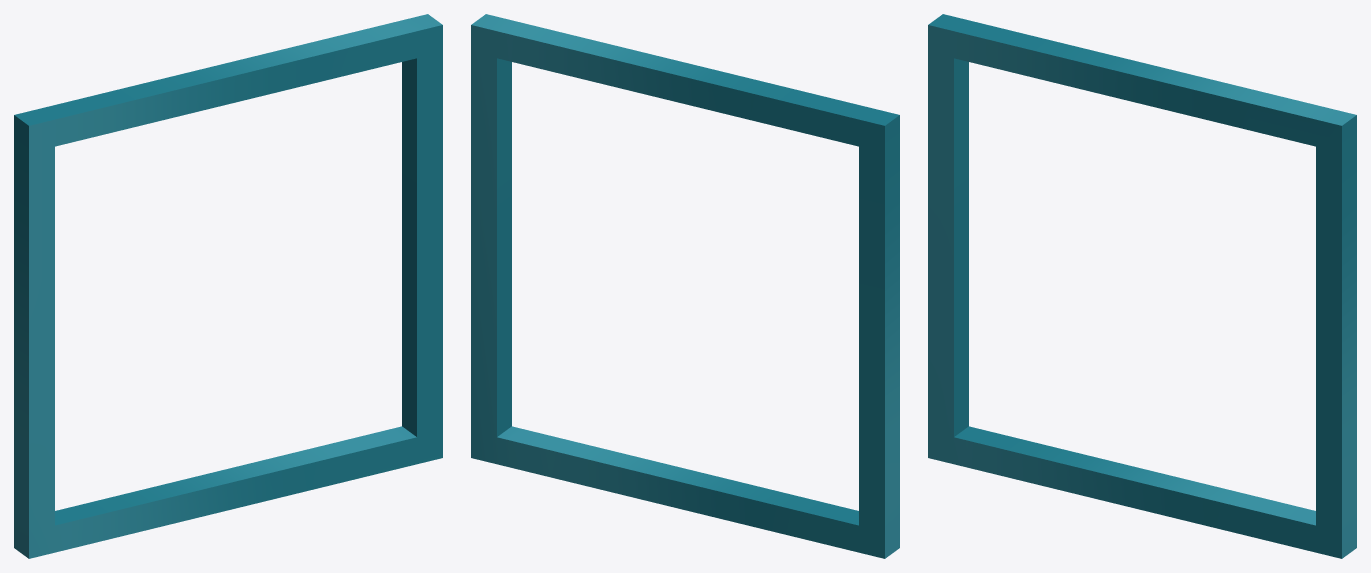
File: Border.fbx
3 renders of one model, left to right at view 1: azimuth 30°, elevation 25°; view 2: azimuth 150°, elevation 25°; view 3: azimuth 330°, elevation 25°, orthographic.
Visible parts, largest first — view 1: Rahmen; view 2: Rahmen; view 3: Rahmen.
Boxes of the visible parts, <box> form: Rahmen: <box>14,14,442,558</box>; Rahmen: <box>471,14,899,558</box>; Rahmen: <box>928,14,1356,558</box>.
Size of the model in its own units: 16000 by 16000 by 1000.
1 material, 1 textured.
